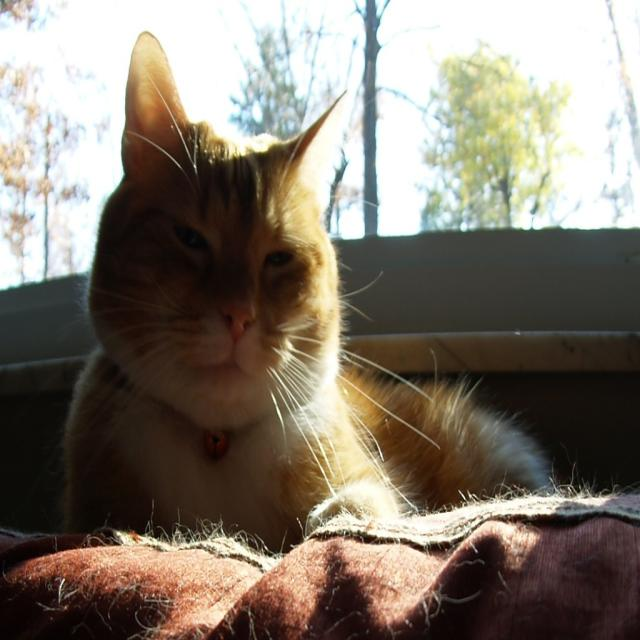Cat: (61, 23, 565, 551)
